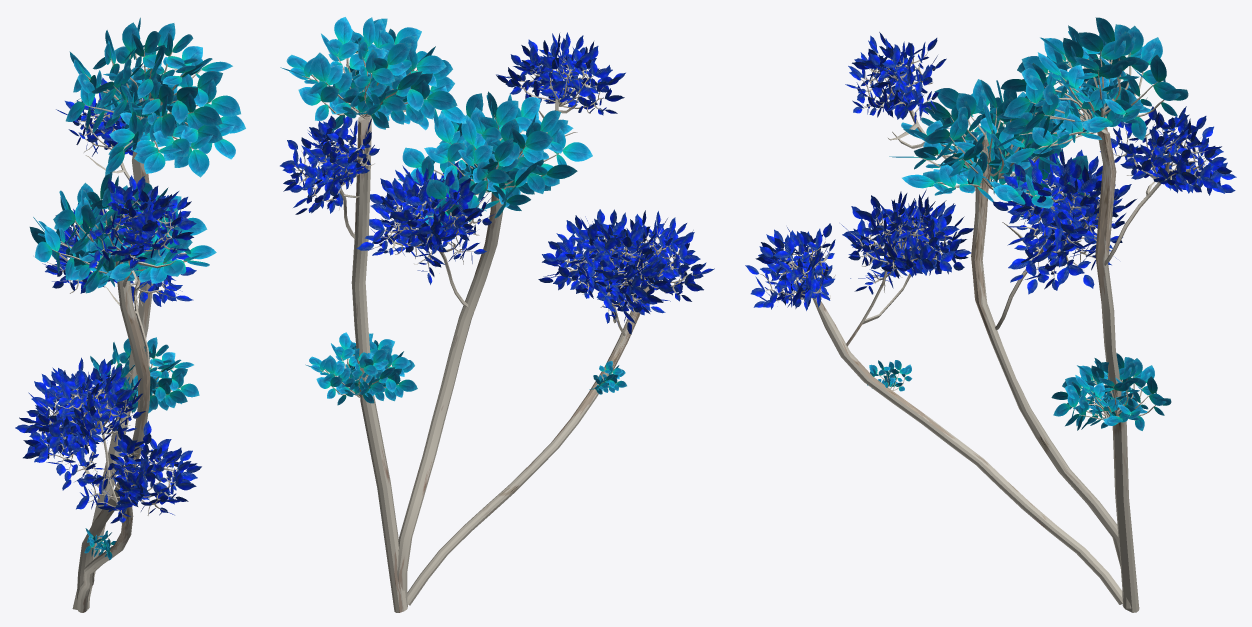
File: bluetree7.fbx
3 views of the same model, side by side, from view 1: azimuth 30°, elevation 25°; view 2: azimuth 150°, elevation 25°; view 3: azimuth 270°, elevation 25° (orthographic). The views are drawn at different scales.
Visible parts, largest first — view 1: pCylinder1070; view 2: pCylinder1070; view 3: pCylinder1070.
Boxes of the visible parts, x1,y1,x2,y2 form: pCylinder1070: (15, 17, 245, 612); pCylinder1070: (280, 17, 714, 612); pCylinder1070: (745, 17, 1236, 612).
Bounding box in the file's own units: 30.99 × 57.63 × 42.33.
